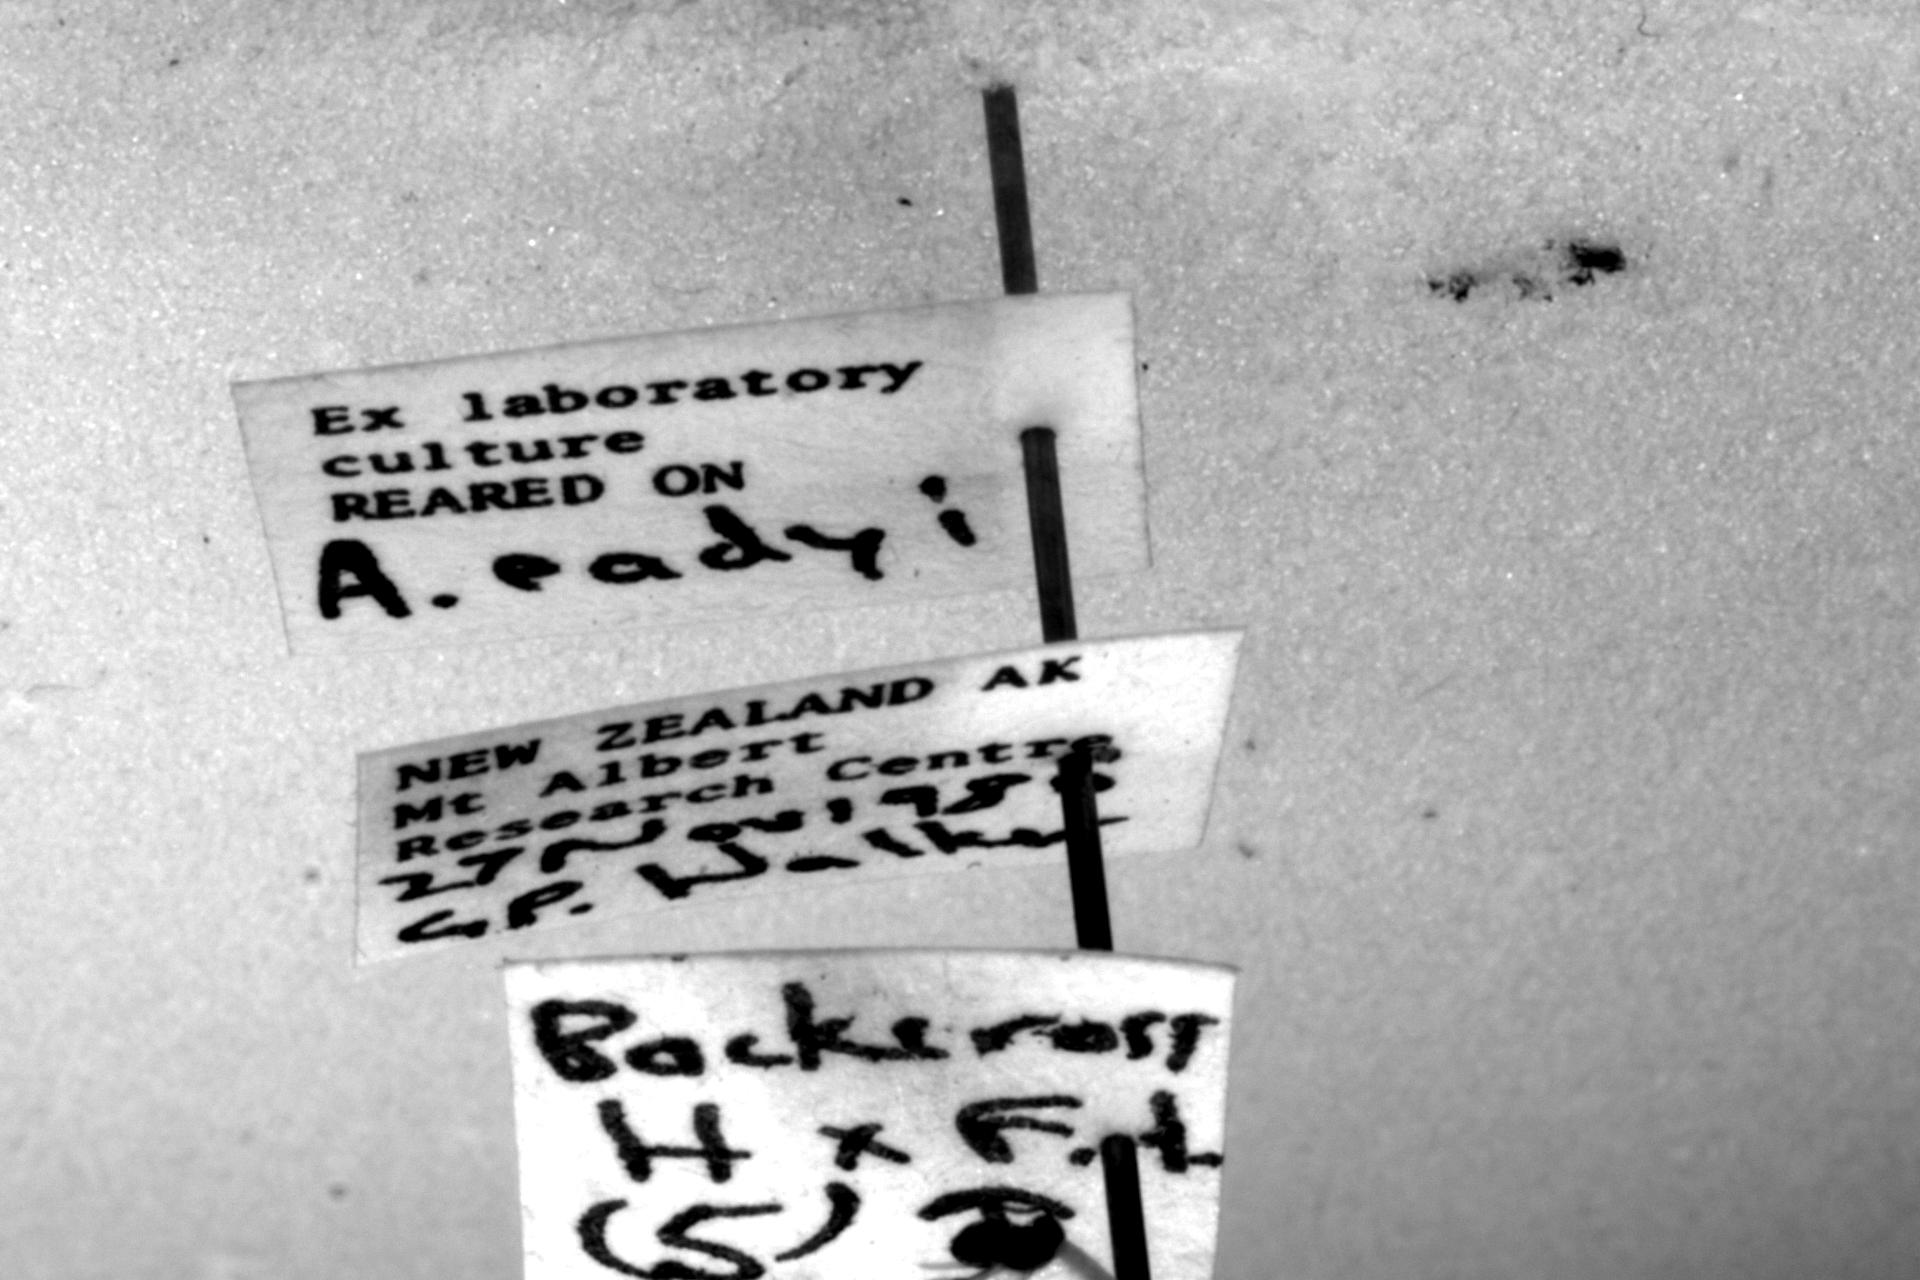hand_label: (506, 949, 1234, 1279)
mixed_label: (233, 293, 1151, 653), (356, 630, 1241, 964)
